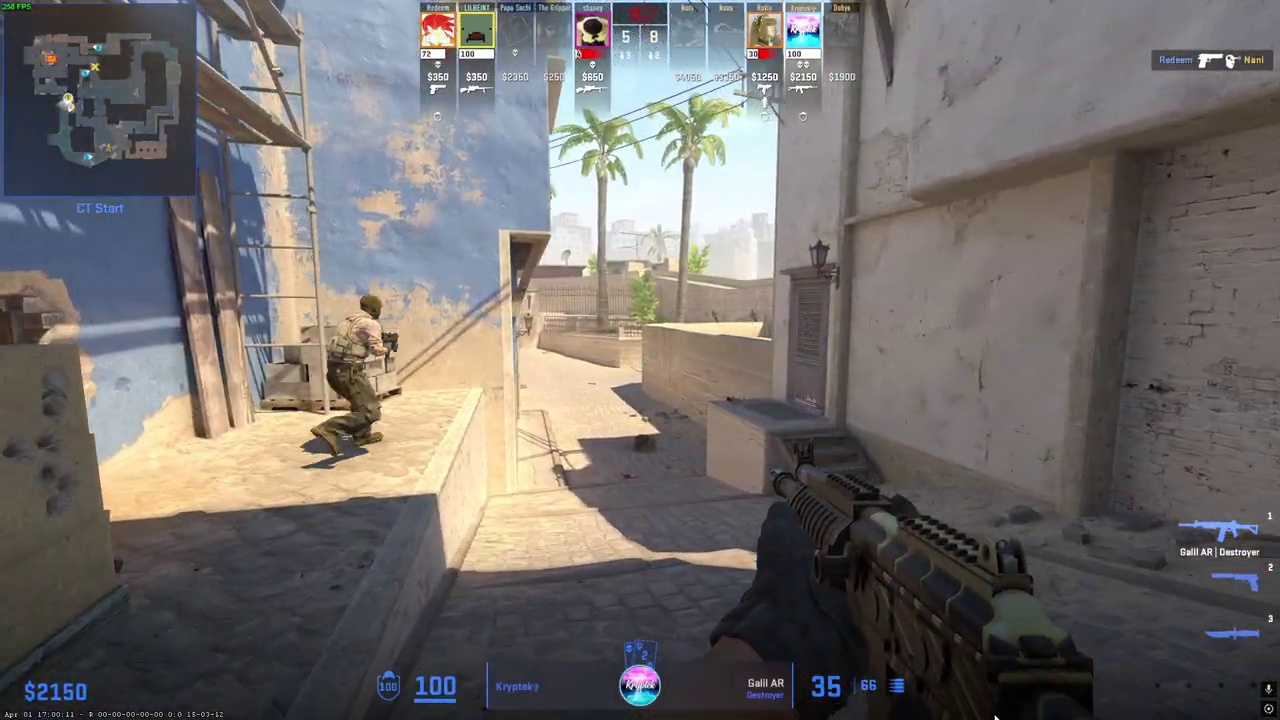Terrorist: (325, 293, 396, 450)
